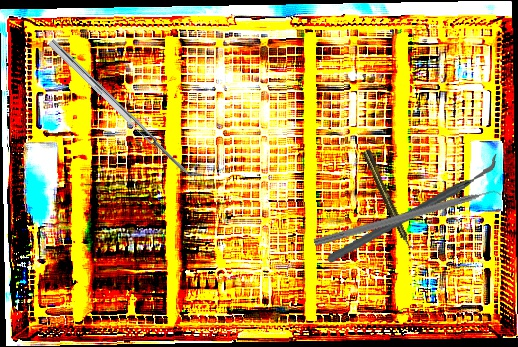Chopper: (317, 153, 510, 264), (313, 183, 510, 258)
Handpiece: (361, 147, 415, 253)
Spatula Surgical: (47, 33, 205, 185)
